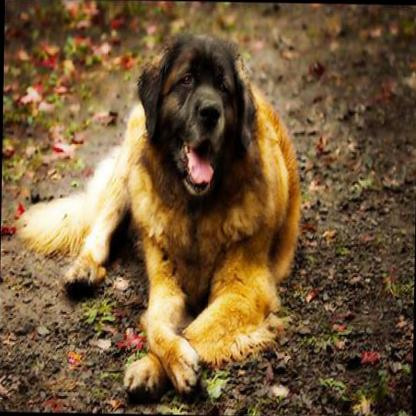Leonberg: (8, 23, 317, 397)
